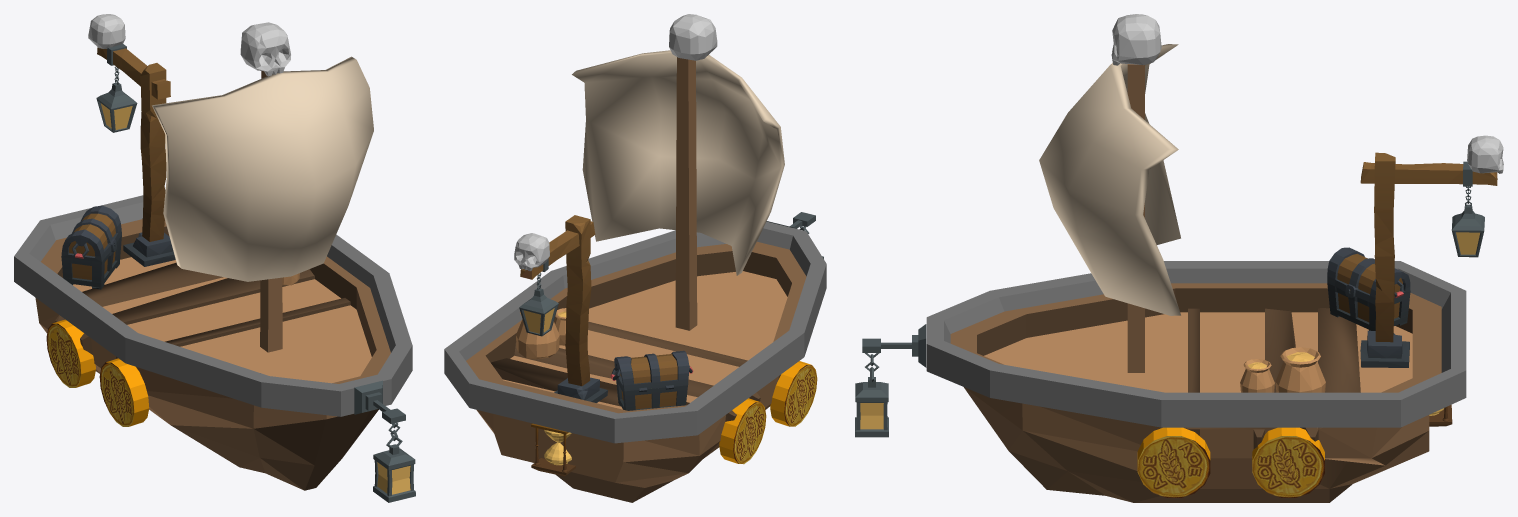
File: Boat_Level2.fbx
The picture shows the model from 3 angles, left to right: view 1: azimuth 30°, elevation 25°; view 2: azimuth 150°, elevation 25°; view 3: azimuth 270°, elevation 25°; orthographic projection. The views are drawn at different scales.
Parts seen in each view (by area): view 1: Boat.001, Lantern_Fron, Lantern_Back; view 2: Boat.001, Lantern_Back; view 3: Boat.001, Lantern_Fron, Lantern_Back.
Boxes of the visible parts, x1,y1,x2,y2 form: Boat.001: [14, 14, 412, 490]; Lantern_Fron: [373, 422, 415, 502]; Lantern_Back: [96, 66, 137, 132]; Boat.001: [444, 14, 826, 502]; Lantern_Back: [519, 273, 558, 336]; Boat.001: [862, 14, 1503, 502]; Lantern_Fron: [855, 353, 888, 437]; Lantern_Back: [1451, 186, 1484, 257].
Bounding box in the file's own units: 2.73 × 4.13 × 5.19.
